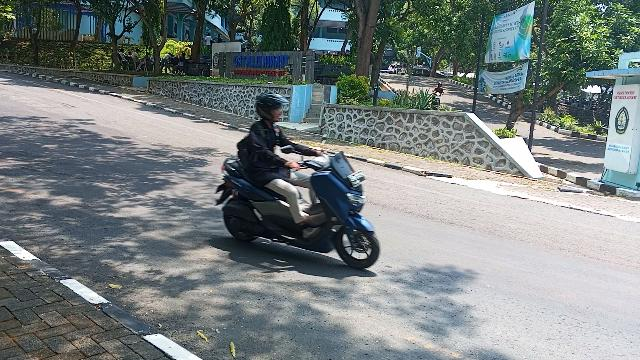helm: (255, 93, 292, 126)
motor: (214, 134, 382, 271)
